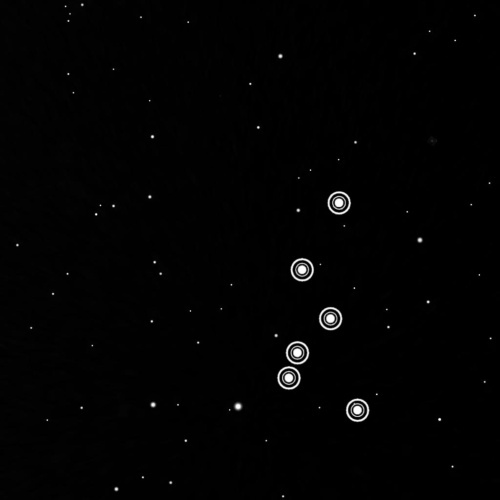cassiopeia: (271, 185, 375, 428)
